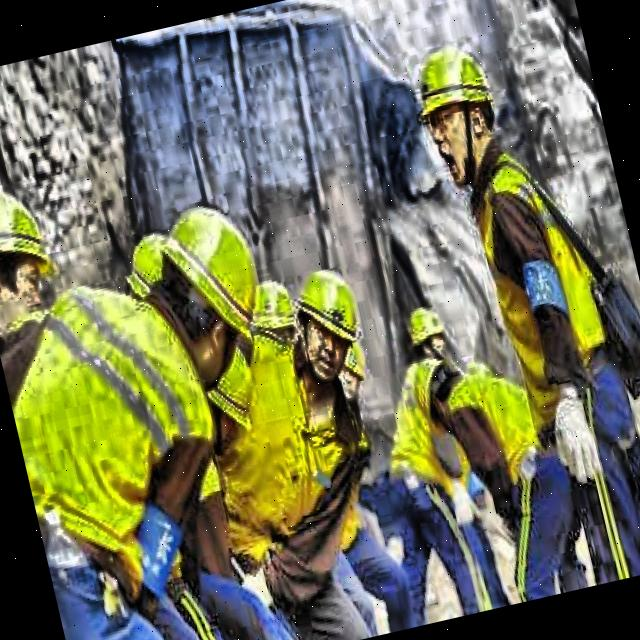helmet: (138, 193, 288, 395), (402, 29, 516, 201), (275, 250, 382, 400), (0, 172, 71, 344), (400, 348, 477, 437), (400, 298, 454, 370)
